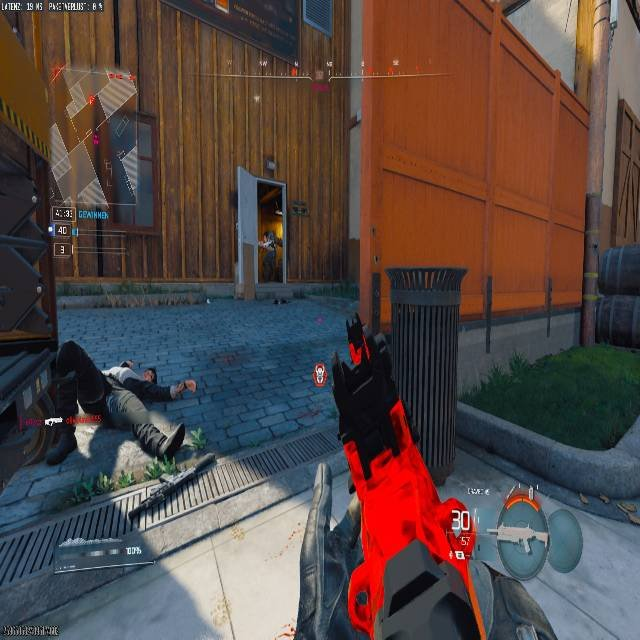head: (264, 230, 274, 240)
player: (0, 107, 210, 526), (258, 230, 282, 281)
